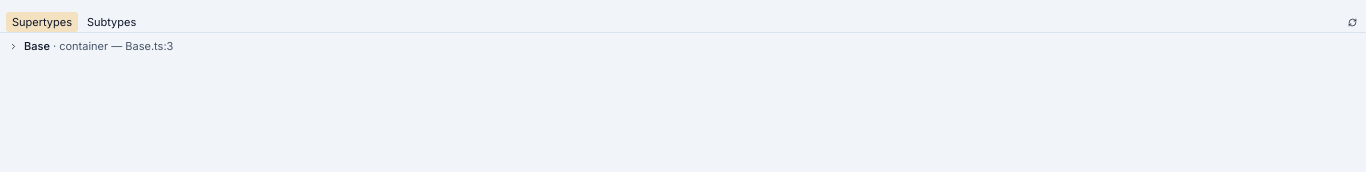
Scenario: HierarchyPanel › switches type hierarchy direction and preserves opaque items
Click the button "subtypes" at (112, 22), box [81, 12, 142, 32]
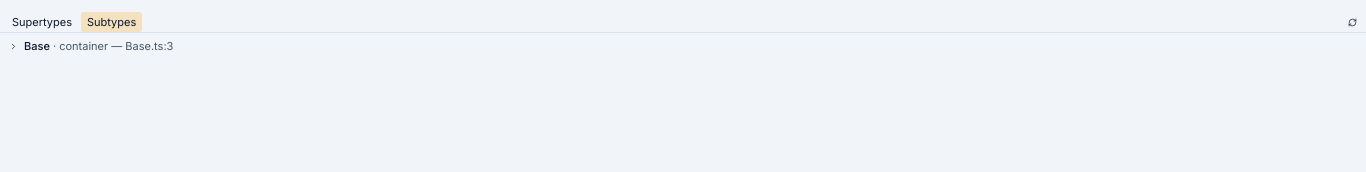
Click the button named "Expand Base" at (14, 46), box [6, 39, 21, 54]
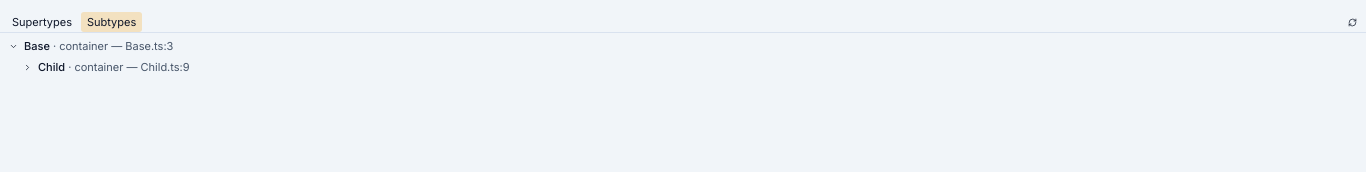
Check: the text "Child" is shown, box [38, 60, 65, 74]
